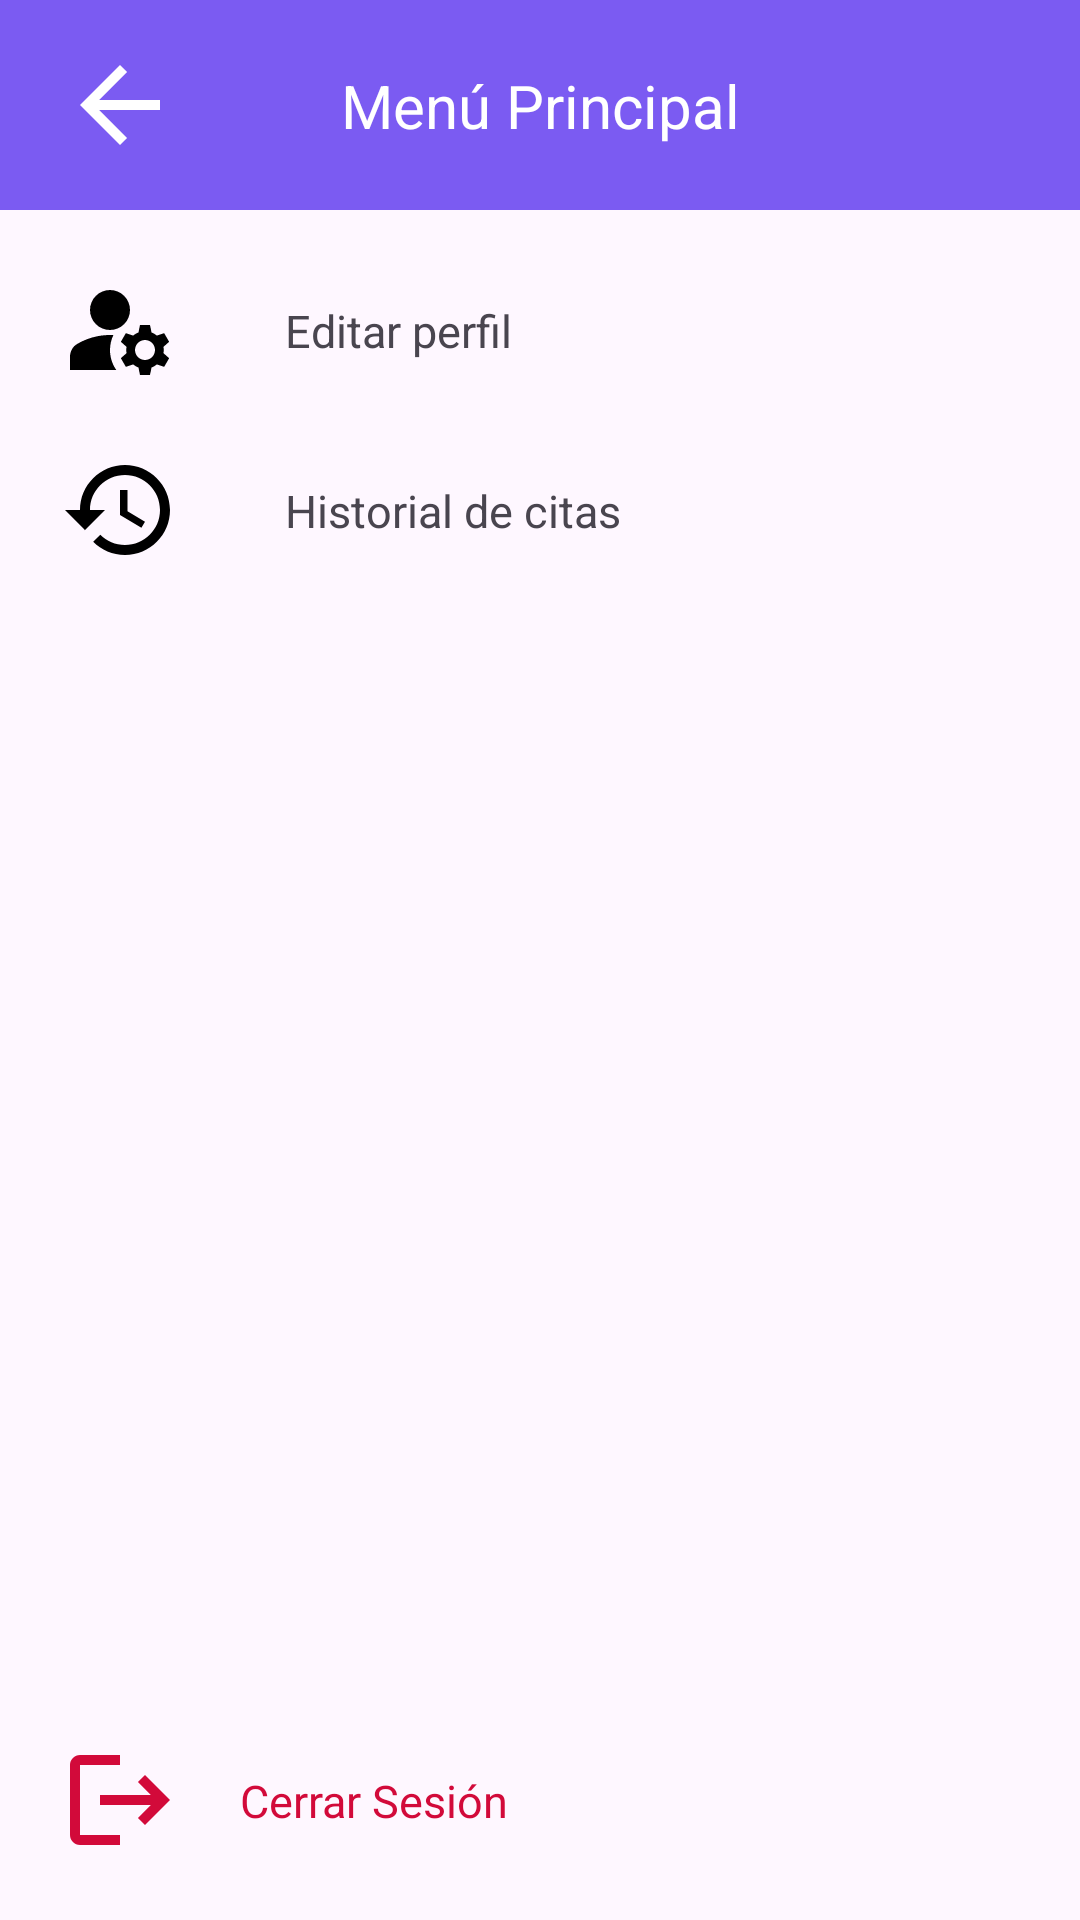

Named icons in this screenshot (1080×1920) and their centers, point (x, y):
back arrow: point (120, 105)
history: point (117, 510)
manage acc: point (119, 332)
